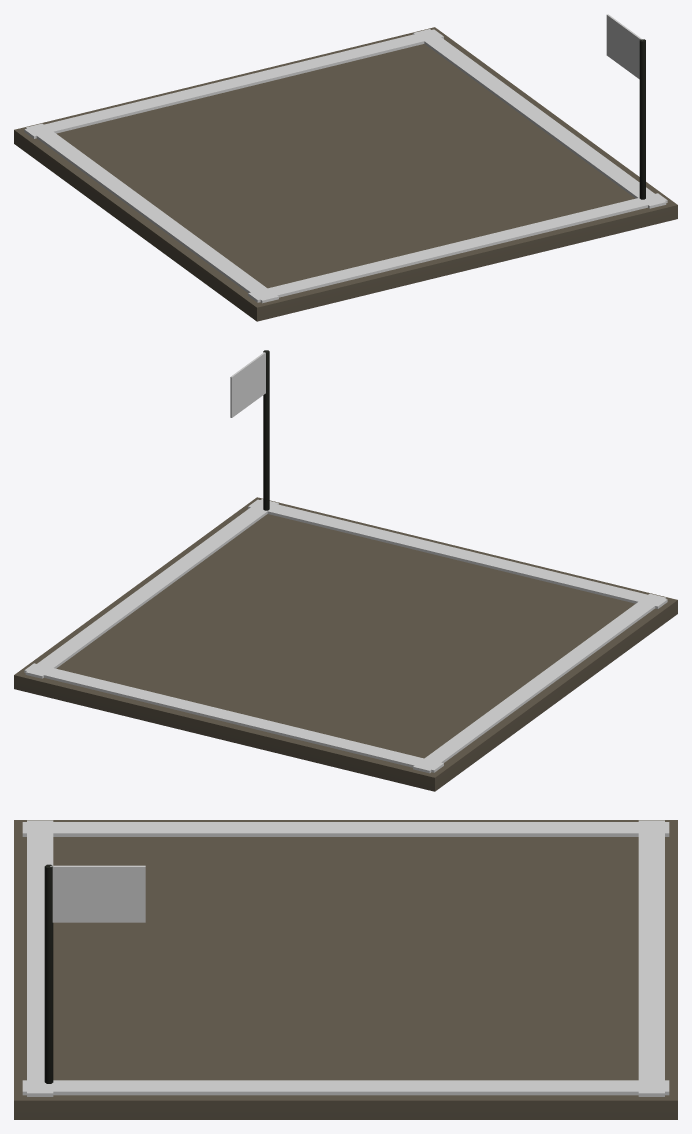
File: m_factory_7b5bee04.glb
3 renders of one model, top to bottom at view 1: azimuth 30°, elevation 25°; view 2: azimuth 150°, elevation 25°; view 3: azimuth 270°, elevation 25°, orthographic. The views are drawn at different scales.
Parts seen in each view (by area): view 1: mesh; view 2: mesh; view 3: mesh.
Part boxes in pixels (x1,y1,x2,y2): mesh: [14, 14, 677, 321]; mesh: [14, 350, 677, 791]; mesh: [14, 820, 677, 1119].
Bounding box in the file's own units: 75.65 × 30 × 75.65.
